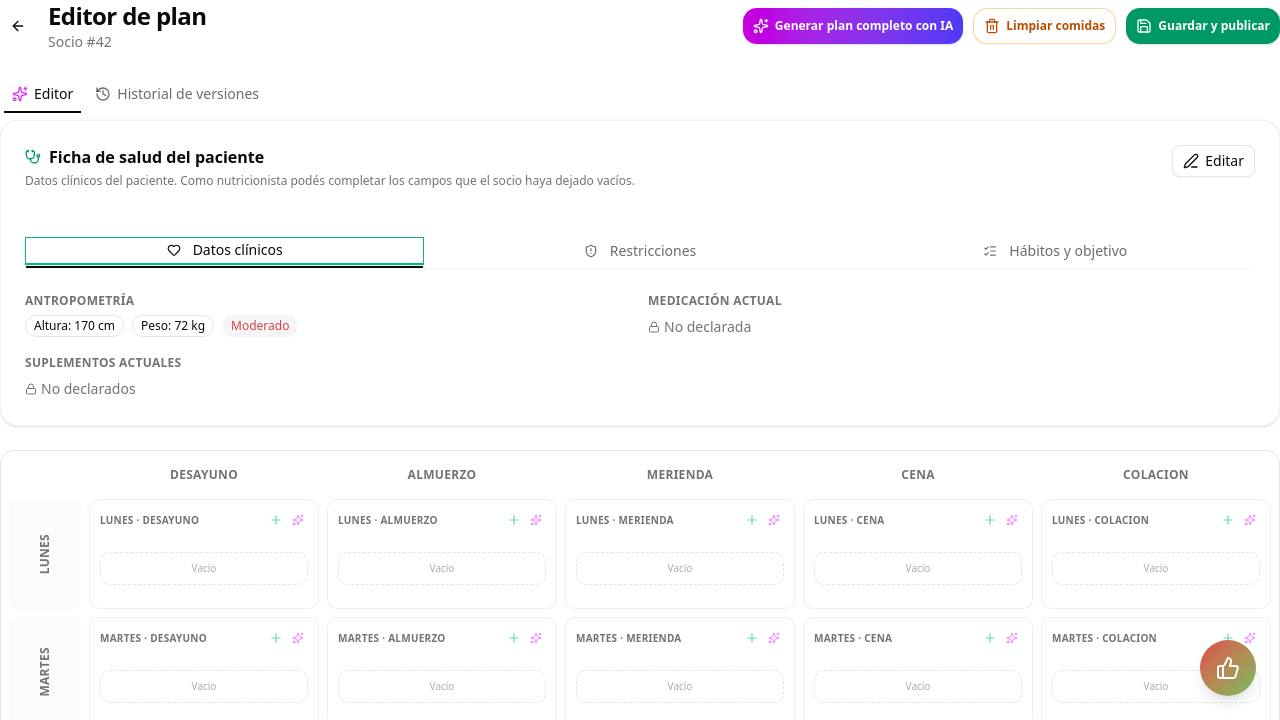
Test case: PlanEditorPage (Packet 5b) › abre el FeedbackModal al clickear el botón flotante
# Click en botón flotante abre el modal
Click the button with test id "feedback-floating-button".
click(1228, 668)  # box [1200,640,1256,696]
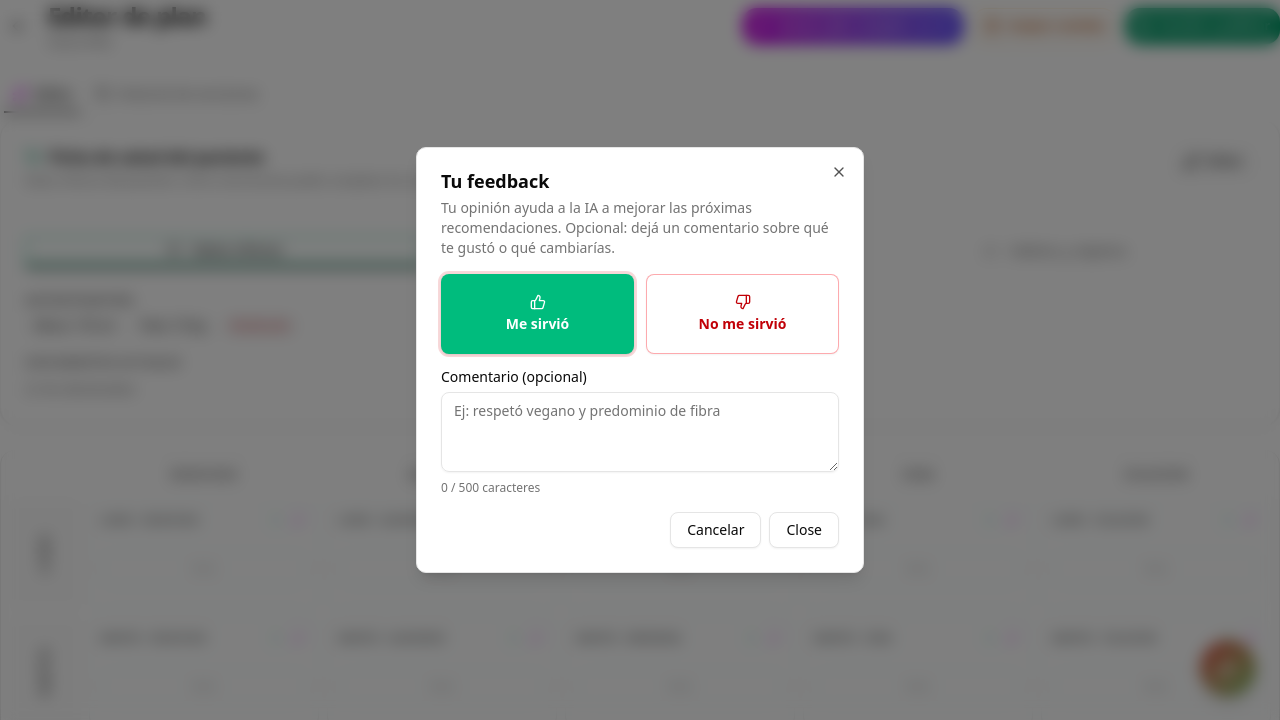
Result: the heading "Tu feedback" is shown at [441,169,549,193]
Result: the button with test id "feedback-positivo" is shown at [441,274,634,354]
Result: the button with test id "feedback-negativo" is shown at [646,274,839,354]
